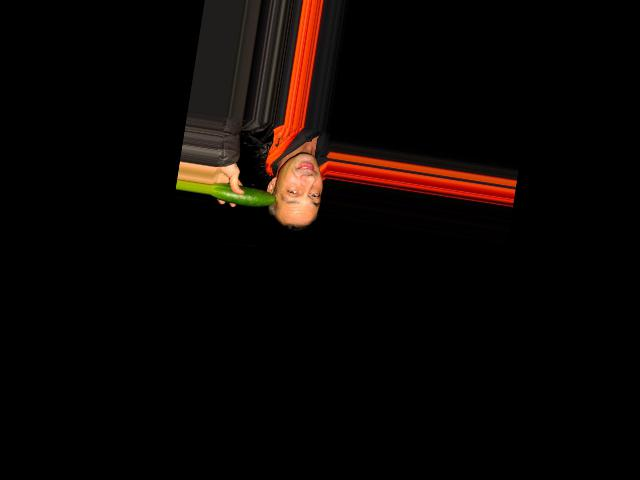cucumber: (210, 181, 277, 210)
